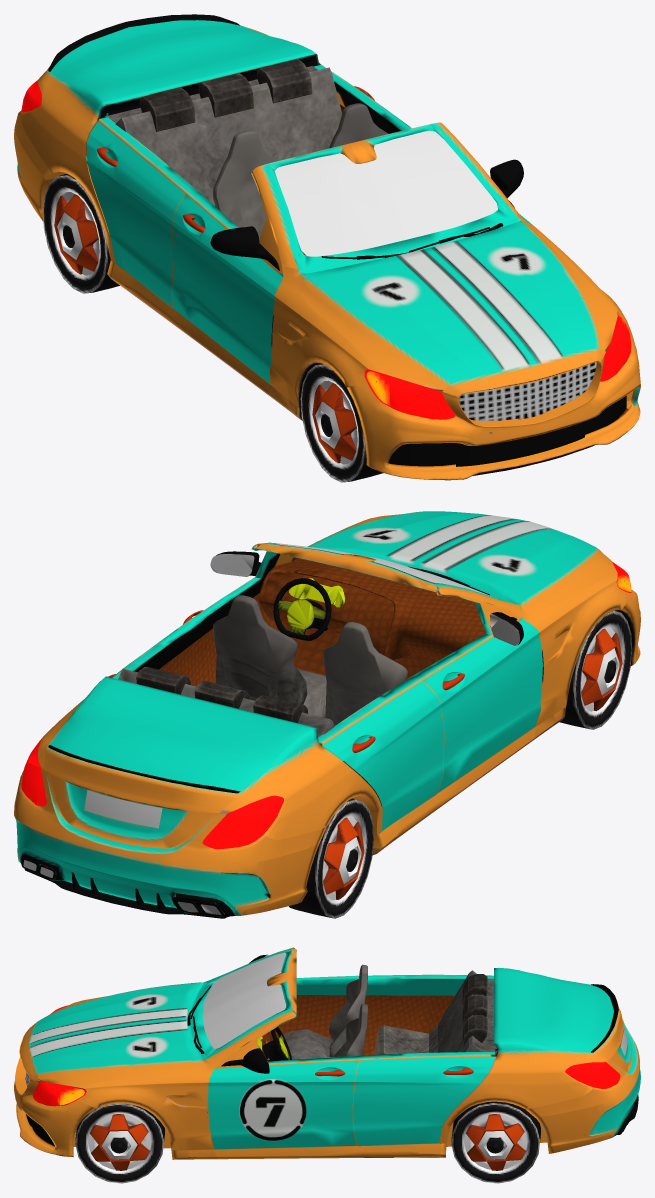
The model's file is cartoonish car.fbx.
3 views of the same model, one above another, from view 1: azimuth 30°, elevation 25°; view 2: azimuth 150°, elevation 25°; view 3: azimuth 270°, elevation 25° (orthographic). The views are drawn at different scales.
Visible parts, largest first — view 1: Object_5, Object_6, Object_5.001, Object_5.002; view 2: Object_5, Object_5.001, Object_5.002, Object_6; view 3: Object_5, Object_5.004, Object_5.003, Object_6.
Boxes of the visible parts, left/top/right/bottom form: Object_5: left=14, top=14, right=640, bottom=480; Object_6: left=274, top=130, right=497, bottom=256; Object_5.001: left=42, top=173, right=119, bottom=293; Object_5.002: left=300, top=363, right=383, bottom=482; Object_5: left=14, top=511, right=640, bottom=918; Object_5.001: left=289, top=798, right=374, bottom=918; Object_5.002: left=559, top=610, right=632, bottom=729; Object_6: left=275, top=543, right=496, bottom=598; Object_5: left=14, top=947, right=640, bottom=1159; Object_5.004: left=451, top=1101, right=540, bottom=1183; Object_5.003: left=75, top=1103, right=164, bottom=1183; Object_6: left=202, top=952, right=286, bottom=1049.
Bounding box in the file's own units: 144 × 97.7 × 348.
